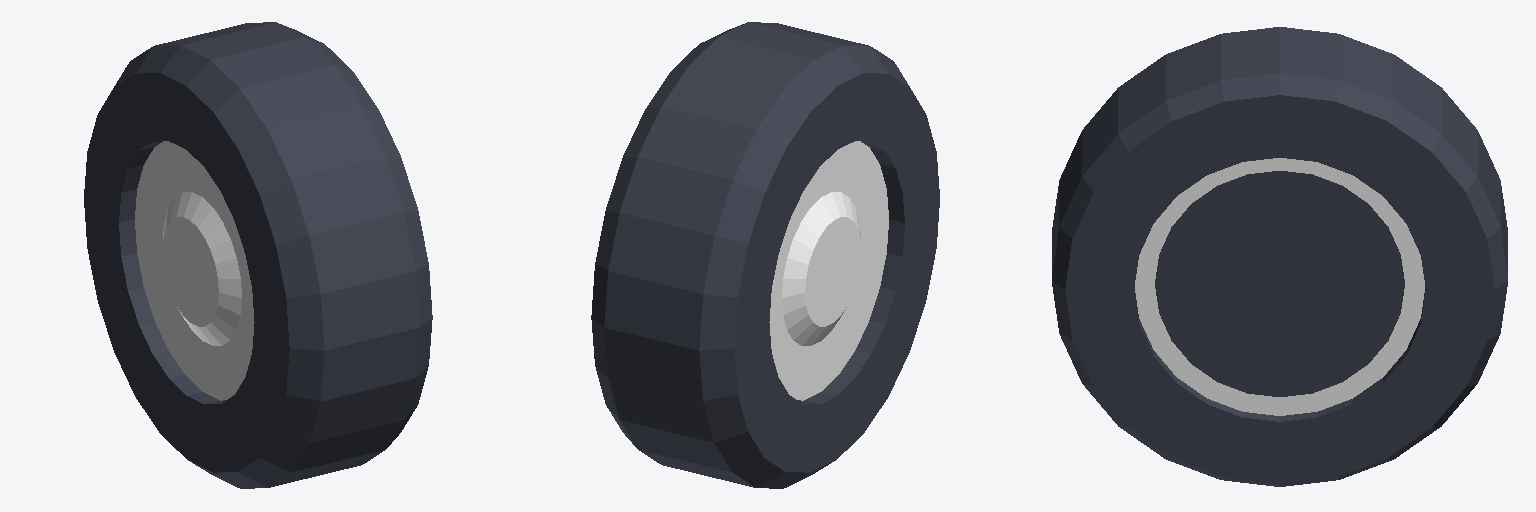
The model's file is Wheel02.obj.
The picture shows the model from 3 angles: view 1: azimuth 30°, elevation 25°; view 2: azimuth 150°, elevation 25°; view 3: azimuth 270°, elevation 25°; orthographic projection.
Parts seen in each view (by area): view 1: Wheel02; view 2: Wheel02; view 3: Wheel02.
Part boxes in pixels (left/top/right/bottom): Wheel02: left=84, top=22, right=432, bottom=488; Wheel02: left=591, top=22, right=939, bottom=488; Wheel02: left=1052, top=27, right=1507, bottom=486.
Bounding box in the file's own units: 0.35 × 1 × 1.